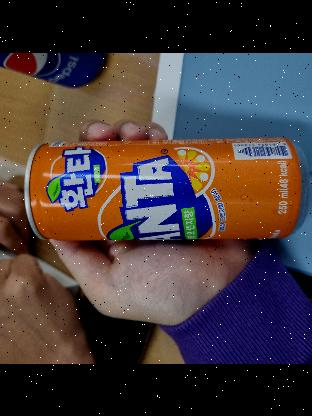Can: (28, 129, 302, 239)
